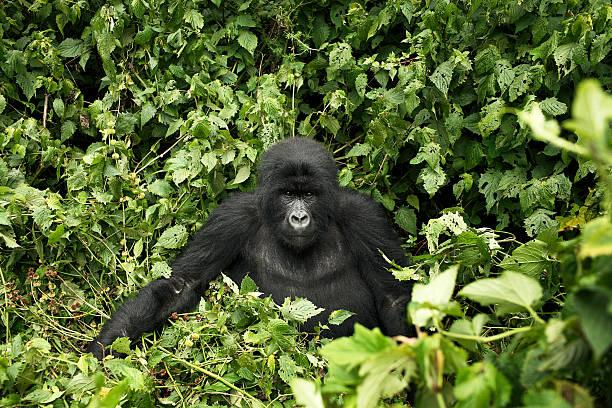goriile_montagne: (88, 127, 493, 348)
